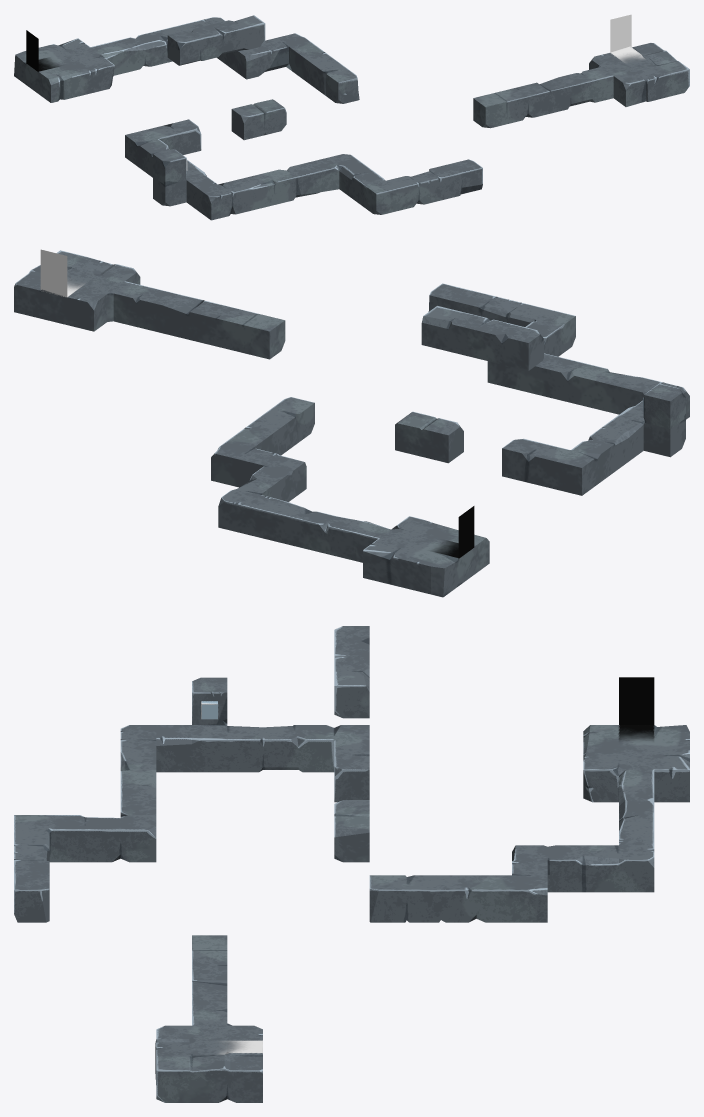
File: Lucid_Tutorial_StaticPieces.fbx
3 renders of one model, top to bottom at view 1: azimuth 30°, elevation 25°; view 2: azimuth 150°, elevation 25°; view 3: azimuth 270°, elevation 25°, orthographic. The views are drawn at different scales.
Parts seen in each view (by area): view 1: Static_Piece, Button, Exit, Entrance; view 2: Static_Piece, Button, Exit, Entrance; view 3: Static_Piece, Entrance, Button.
Part boxes in pixels (x1,y1,x2,y2): Static_Piece: (14,15,689,220); Button: (153,149,187,185); Exit: (610,14,631,52); Entrance: (26,30,38,71); Static_Piece: (14,250,689,597); Button: (643,383,685,429); Exit: (40,249,67,296); Entrance: (458,506,474,558); Static_Piece: (14,626,689,1102); Entrance: (619,677,654,724); Button: (192,677,227,724).
Bounding box in the file's own units: 24 × 5 × 19.
Materials: 4 (2 with a texture image).
